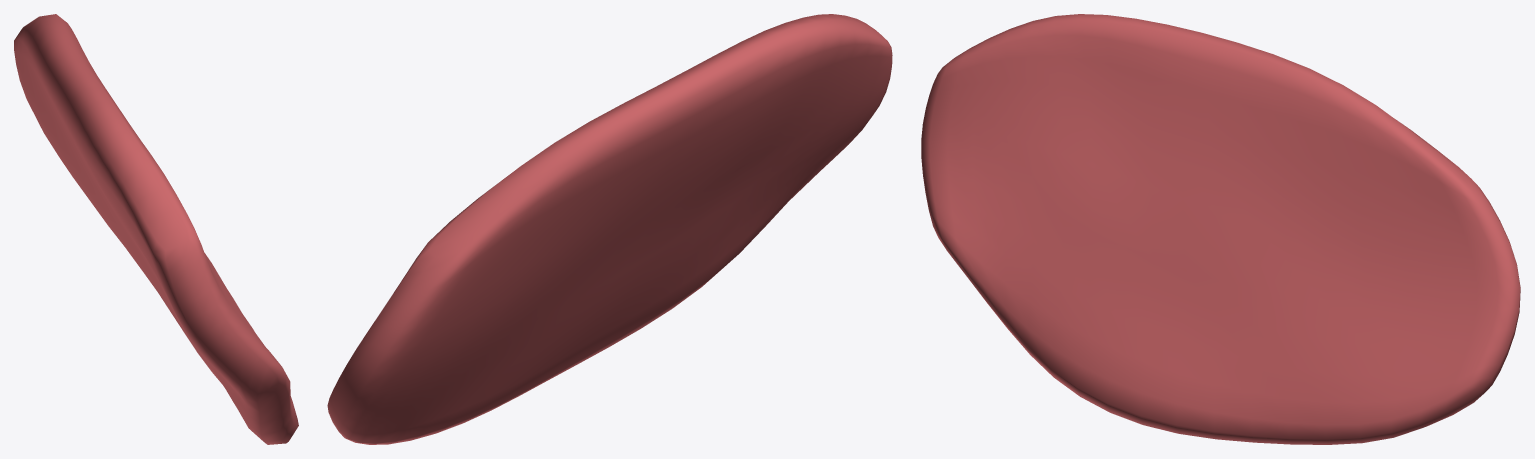
3 views of the same model, side by side, from view 1: azimuth 30°, elevation 25°; view 2: azimuth 150°, elevation 25°; view 3: azimuth 270°, elevation 25° (orthographic). The views are drawn at different scales.
Visible parts, largest first — view 1: 左侧鹅足囊; view 2: 左侧鹅足囊; view 3: 左侧鹅足囊.
Boxes of the visible parts, x1=… form: 左侧鹅足囊: x1=14, y1=14, x2=298, y2=444; 左侧鹅足囊: x1=327, y1=14, x2=892, y2=444; 左侧鹅足囊: x1=921, y1=14, x2=1520, y2=444.
Bounding box in the file's own units: 0.0206 × 0.0253 × 0.0414.
